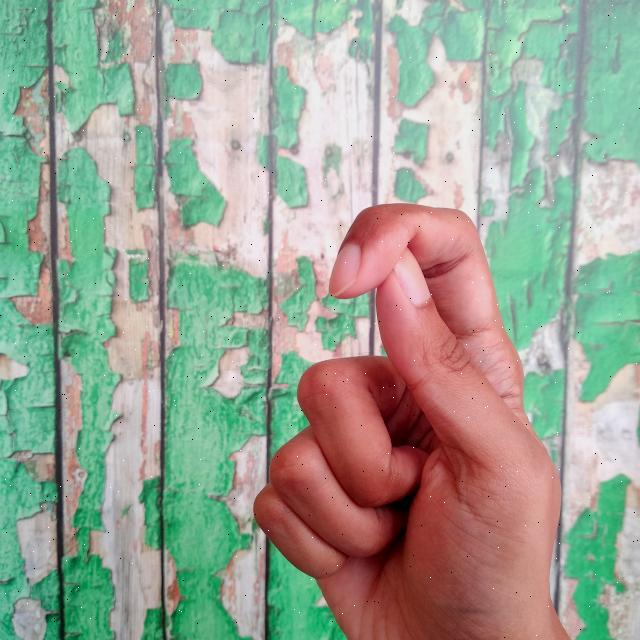X: (248, 187, 573, 640)
